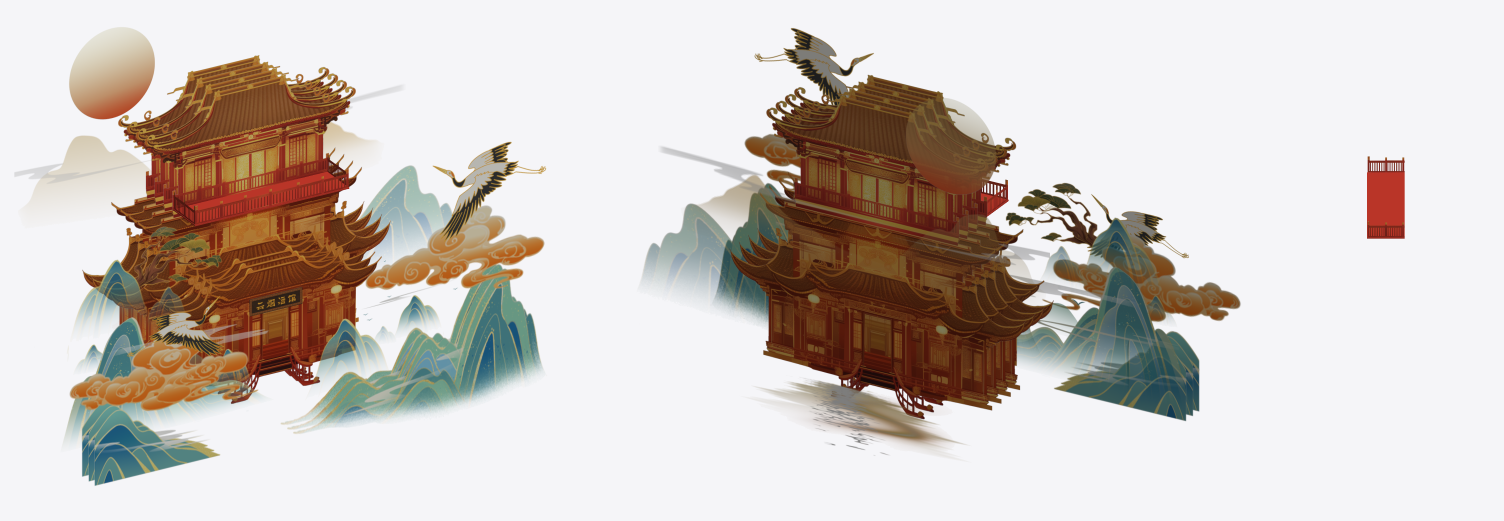
3 views of the same model, side by side, from view 1: azimuth 30°, elevation 25°; view 2: azimuth 150°, elevation 25°; view 3: azimuth 270°, elevation 25° (orthographic). The views are drawn at different scales.
Visible parts, largest first — view 1: Object005_333_0, Object006_121212_0, Plane013_888_0, Plane014_888_0, Plane009_333_0, Object007_121212_0, Object012_121212_0, Object011_121212_0, Object010_121212_0, Box004_121212_0, Box003_555_0, Object008_121212_0 (+4 smaller); view 2: Object005_333_0, Object007_121212_0, Object014_121212_0, Plane014_888_0, Plane009_333_0, Object011_121212_0, Object012_121212_0, Object013_121212_0, Object010_121212_0, Object009_121212_0, Plane011_888_0, Plane013_888_0 (+3 smaller); view 3: Box003_555_0.
Part boxes in pixels (x1,y1,x2,y2): Object005_333_0: [82, 55, 390, 403]; Object006_121212_0: [94, 268, 542, 485]; Plane013_888_0: [365, 205, 544, 289]; Plane014_888_0: [69, 338, 257, 410]; Plane009_333_0: [69, 27, 154, 119]; Object007_121212_0: [64, 317, 268, 441]; Object012_121212_0: [75, 226, 221, 325]; Object011_121212_0: [358, 165, 452, 257]; Object010_121212_0: [14, 135, 150, 198]; Box004_121212_0: [88, 264, 534, 481]; Box003_555_0: [173, 155, 349, 226]; Object008_121212_0: [313, 260, 456, 383]; Object005_333_0: [729, 74, 1053, 419]; Object007_121212_0: [1010, 267, 1186, 396]; Object014_121212_0: [715, 193, 1186, 420]; Plane014_888_0: [1042, 234, 1240, 321]; Plane009_333_0: [906, 98, 995, 194]; Object011_121212_0: [642, 203, 767, 302]; Object012_121212_0: [1006, 183, 1160, 287]; Object013_121212_0: [761, 379, 962, 455]; Object010_121212_0: [896, 214, 1049, 280]; Object009_121212_0: [661, 147, 881, 257]; Plane011_888_0: [754, 28, 873, 105]; Plane013_888_0: [744, 106, 801, 190]; Box003_555_0: [1367, 156, 1404, 238].
Size of the model in its own units: 0.3734 by 0.2492 by 0.1489.
Materials: 4 (4 with a texture image).
